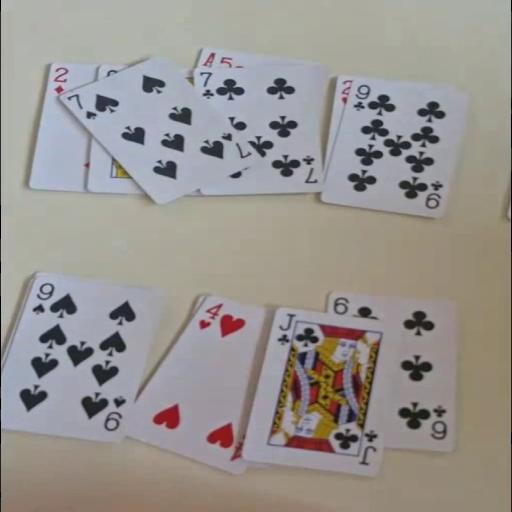2: (51, 65, 70, 94)
4: (194, 300, 224, 331)
6: (428, 402, 448, 441)
7: (219, 130, 255, 160), (64, 91, 99, 121), (300, 153, 320, 185)
9: (100, 394, 128, 432), (28, 280, 56, 316), (422, 178, 445, 210), (350, 82, 372, 112), (344, 78, 356, 110)
J: (356, 428, 380, 466), (272, 311, 296, 346)
